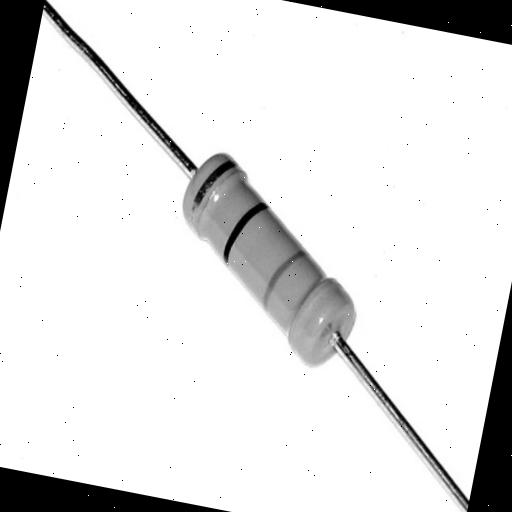RESISTOR: (95, 128, 451, 398)
